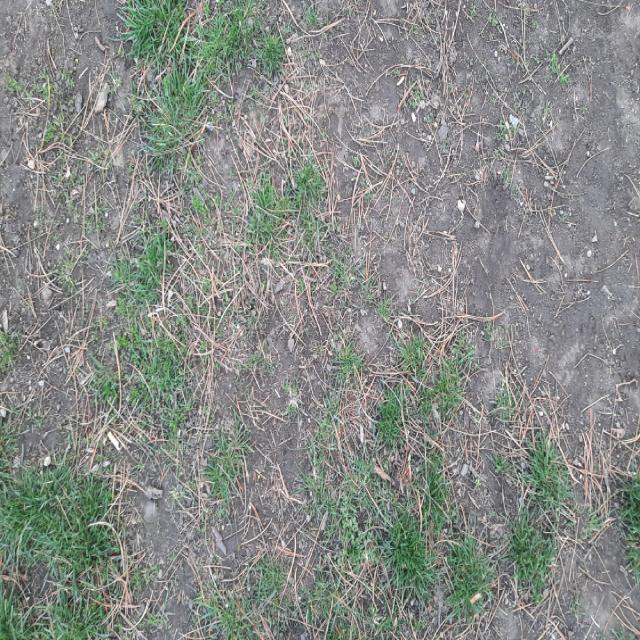grass: (124, 0, 282, 153), (0, 443, 118, 626), (113, 234, 192, 433), (511, 513, 554, 599), (447, 535, 495, 612), (390, 510, 433, 595), (527, 433, 568, 512), (618, 475, 639, 580), (377, 391, 401, 446)
